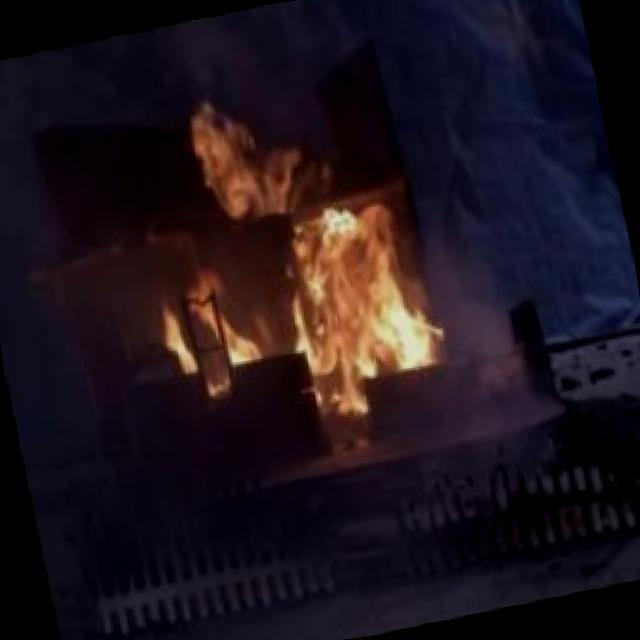fire: (150, 64, 454, 452)
